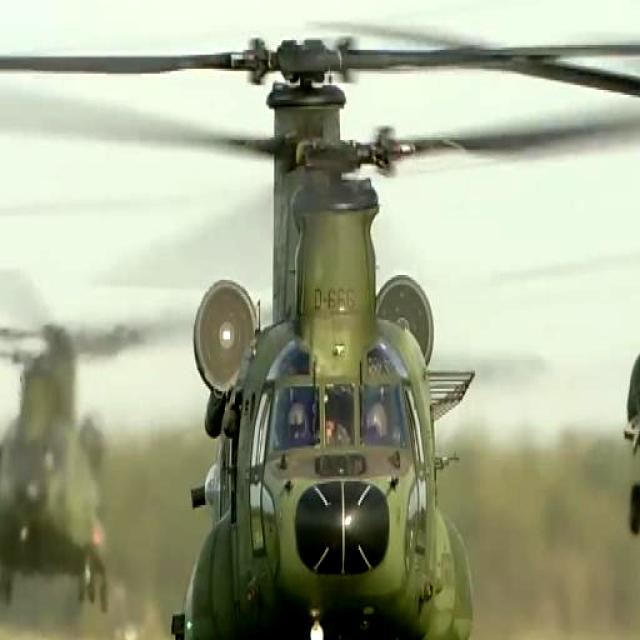drone: (15, 0, 571, 640), (0, 282, 141, 640)
